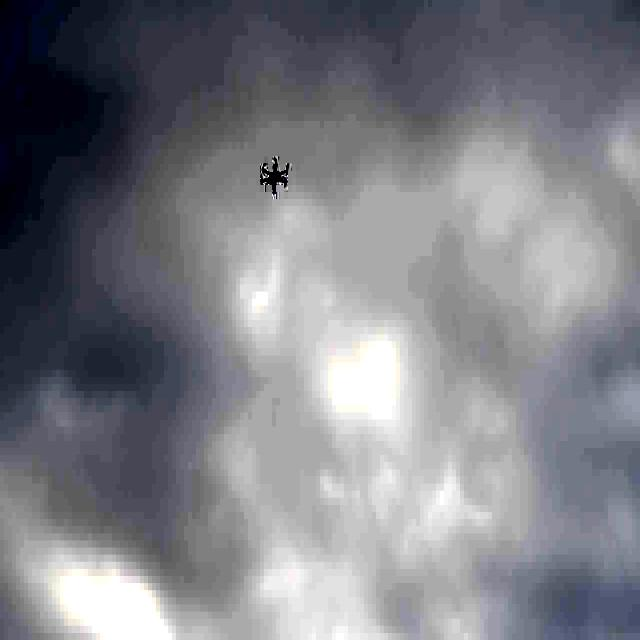drone: (256, 152, 292, 199)
